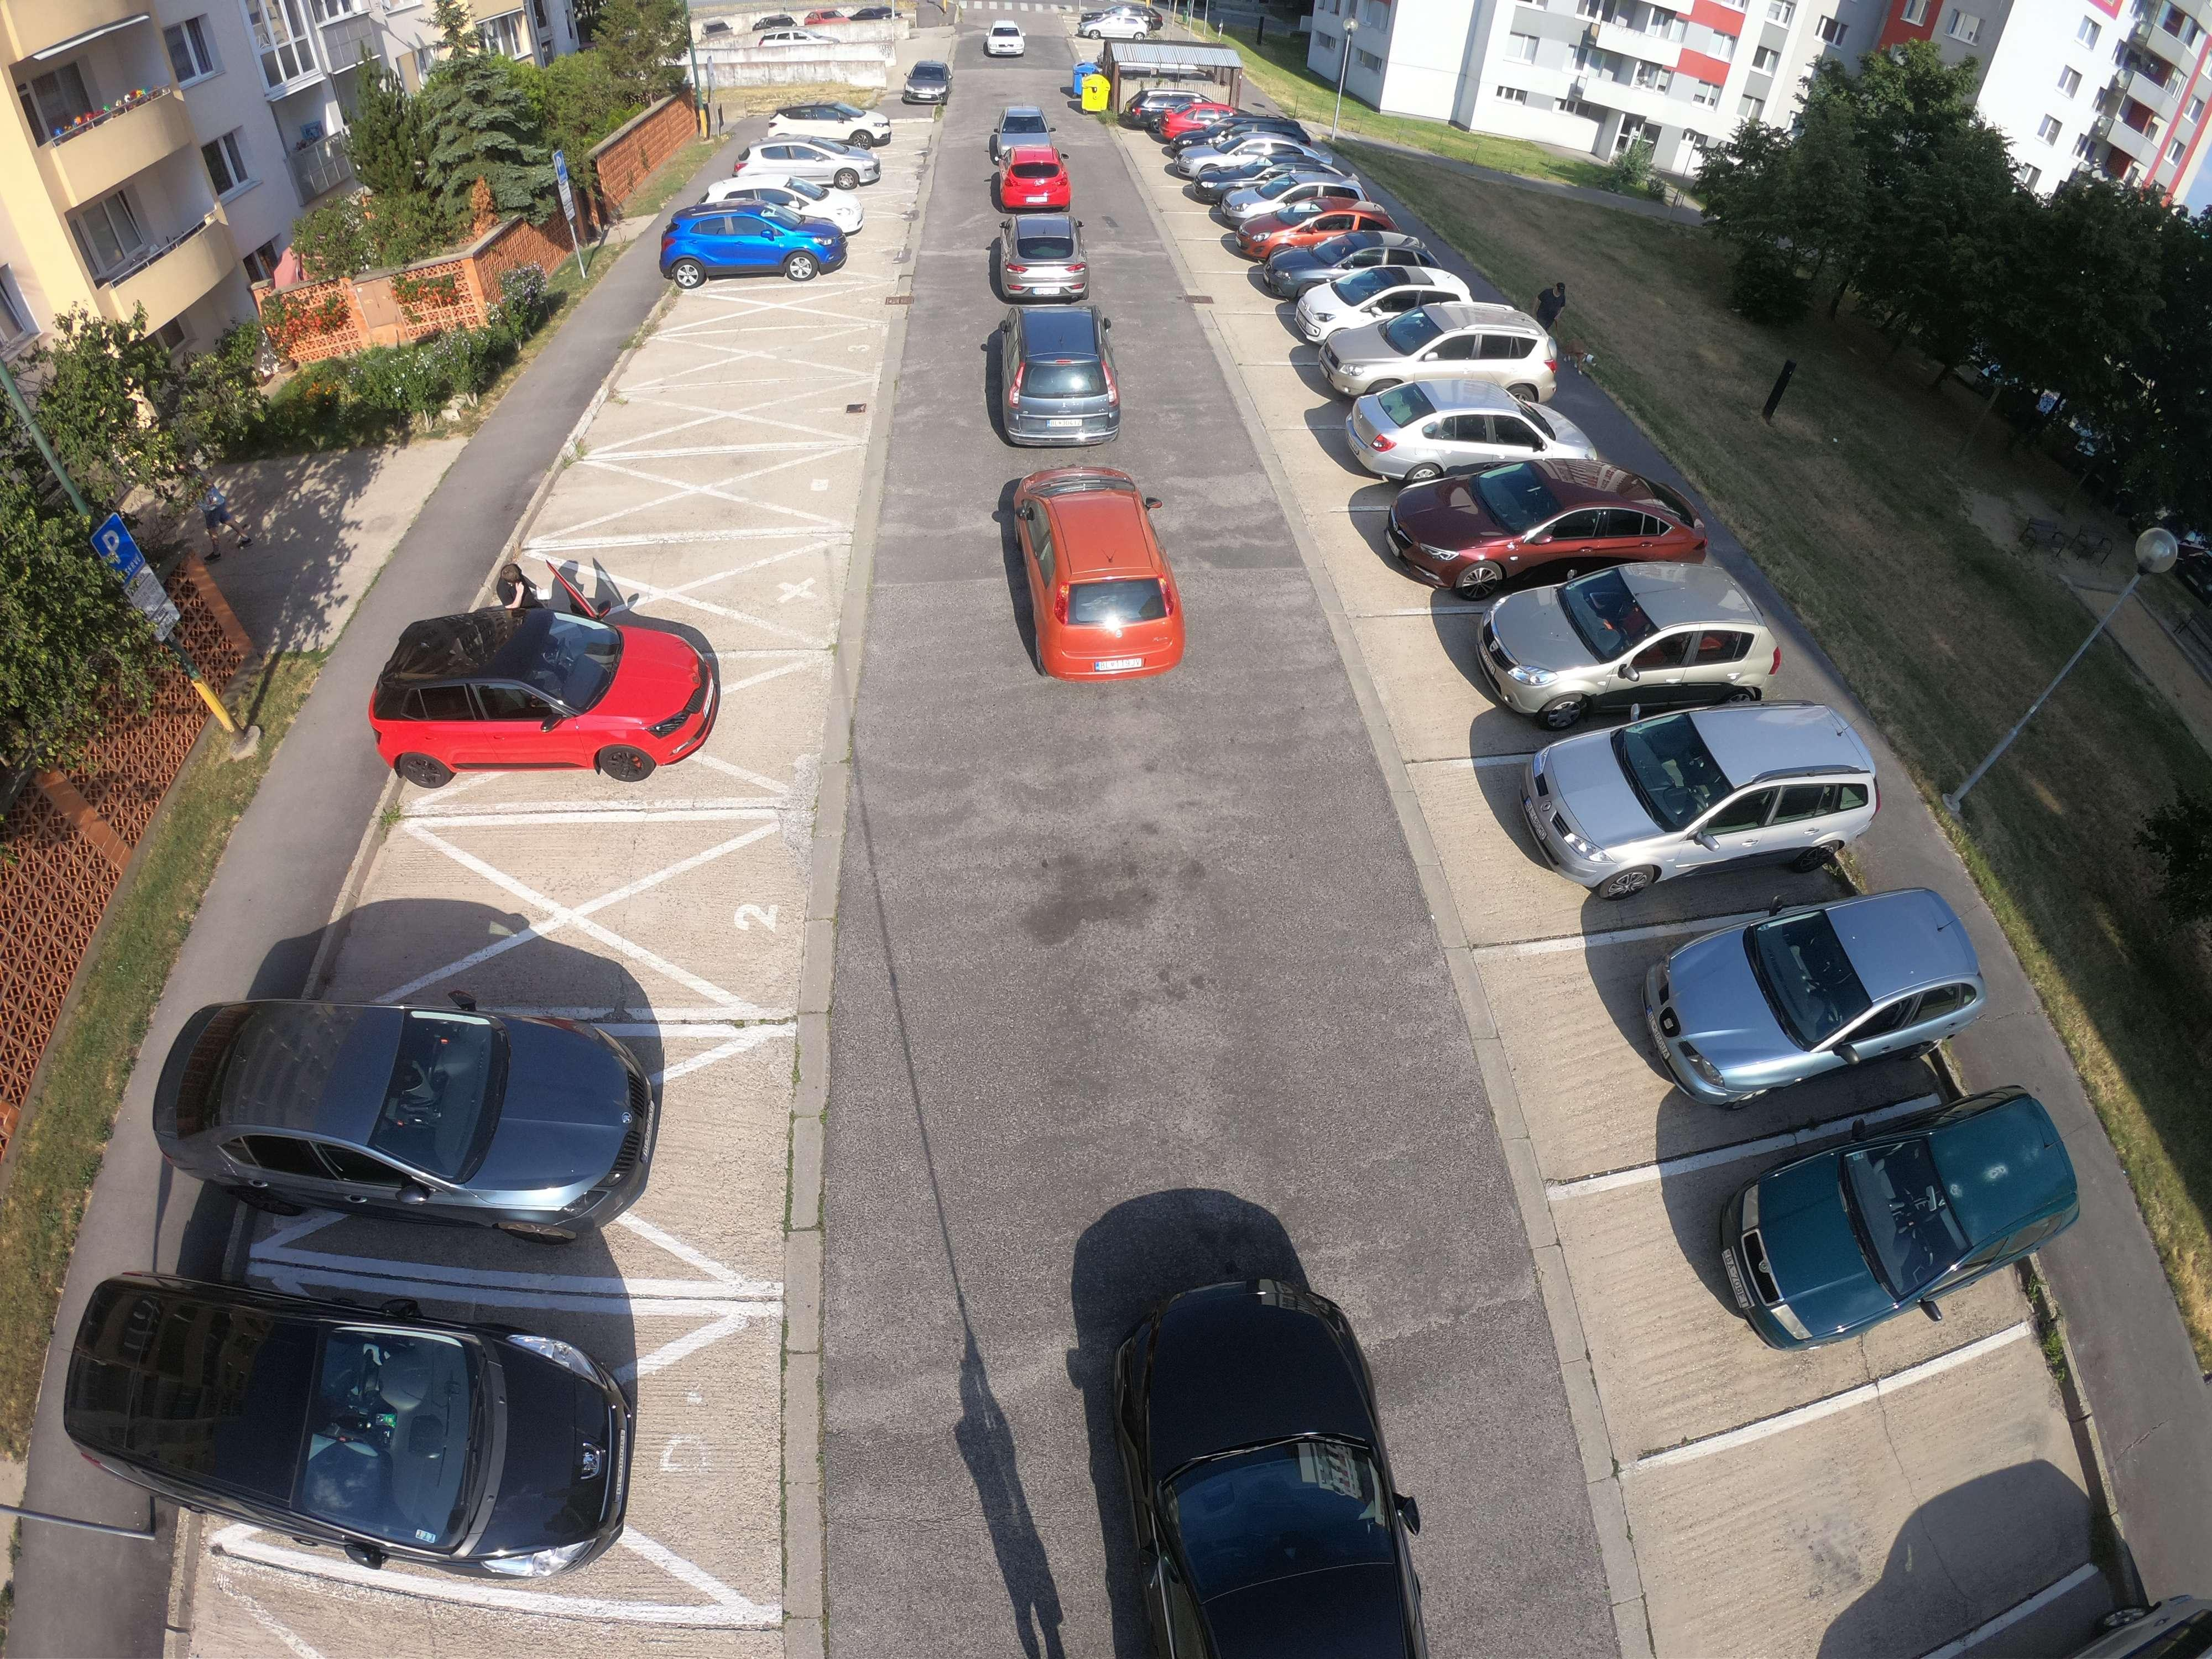empty: (1094, 1246, 1451, 1659), (172, 950, 681, 1232), (1705, 1084, 2088, 1345), (1635, 890, 1998, 1093), (1519, 702, 1912, 871), (366, 613, 719, 782), (1010, 474, 1205, 690), (1486, 565, 1791, 701), (1385, 464, 1702, 579), (1325, 376, 1597, 476), (1317, 301, 1564, 389), (988, 317, 1125, 446), (662, 211, 850, 291), (683, 157, 867, 227), (1245, 199, 1407, 274), (993, 218, 1099, 315), (991, 150, 1076, 221), (763, 96, 885, 138)
occupied: (1031, 760, 1242, 1159), (441, 859, 700, 997), (1749, 1490, 1977, 1607), (611, 547, 761, 622), (660, 364, 768, 448), (615, 495, 744, 545), (697, 291, 786, 354)
